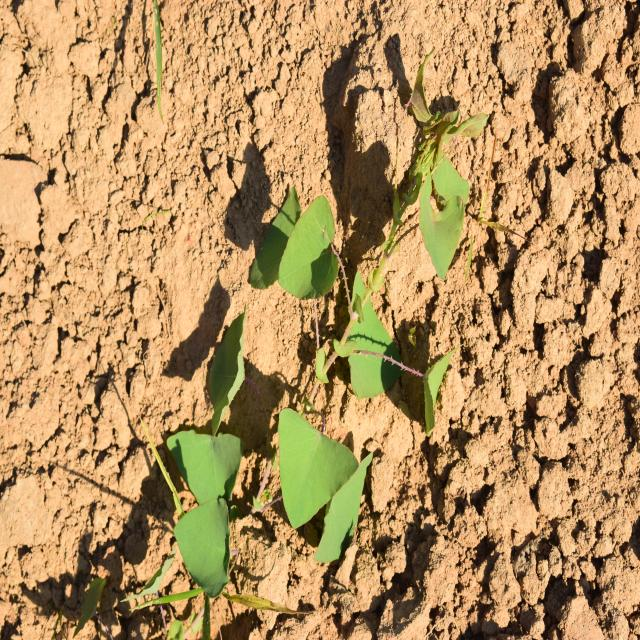Asiatic_Smartweed: (245, 74, 487, 434), (161, 307, 295, 587), (254, 382, 377, 581)
